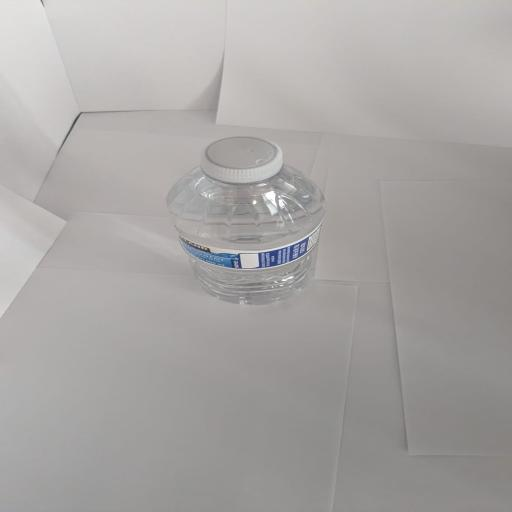waterbottle: (168, 137, 324, 304)
